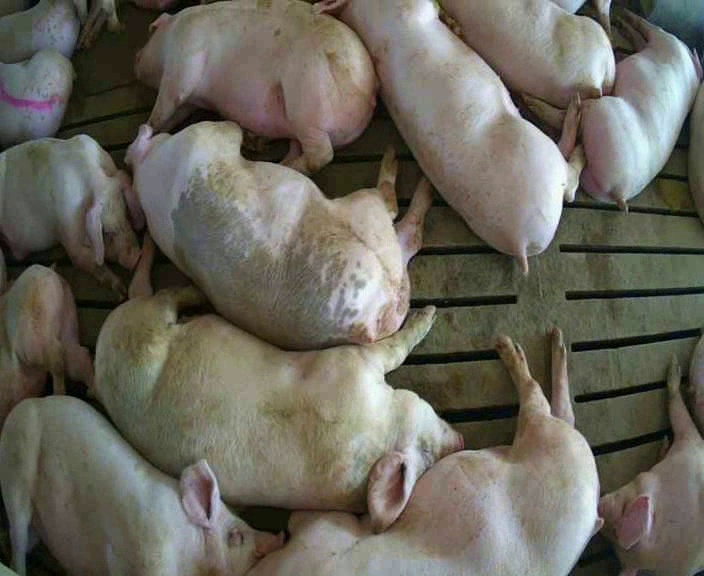pig: (87, 232, 462, 530), (250, 331, 598, 573), (312, 1, 584, 272), (126, 122, 430, 348), (135, 2, 377, 172), (599, 335, 703, 574), (441, 2, 614, 107), (0, 265, 91, 423), (0, 49, 72, 146), (0, 2, 79, 62)
